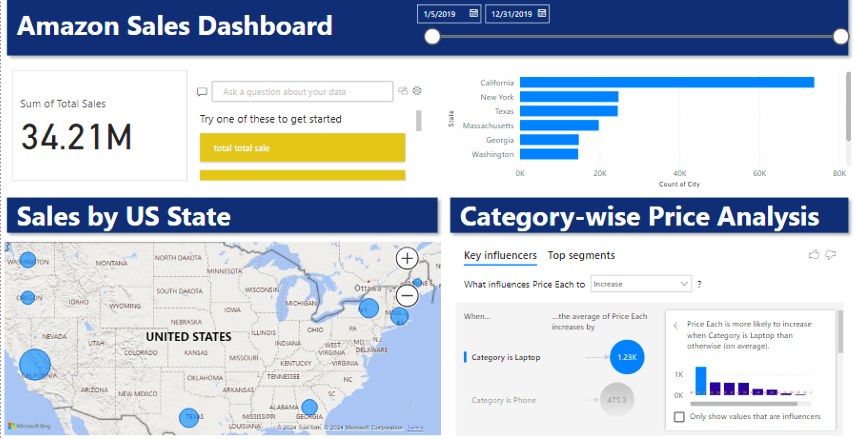

The dashboard page shown, as its layout file describes it:
{"tool":"powerbi","page":{"name":"Page 1","canvas":[1280,720],"ordinal":0},"visuals":[{"type":"shape","box":[0,40,1280,114.3],"z":0},{"type":"shape","box":[0,348.6,664.3,71.4],"z":1000},{"type":"shape","box":[664.3,348.6,615.7,71.4],"z":2000},{"type":"qnaVisual","box":[285.7,158.6,354.3,182.9],"z":3000},{"type":"keyDriversVisual","fields":{"Target":["Table6.Price Each"],"ExplainBy":["Table6.Category"]},"box":[677.1,420,591.4,300],"z":4000},{"type":"actionButton","box":[0,0,100,40],"z":5000},{"type":"map","fields":{"Category":["Table6.State"],"Size":["Table6.Total Sales"]},"box":[1.4,420,662.9,300],"z":6000},{"type":"cardVisual","fields":{"Data":["Table6.Total Sales"]},"box":[11.4,161.4,274.3,177.1],"z":7000},{"type":"barChart","fields":{"Category":["Table6.State"],"Y":["Table6.City"]},"box":[664.3,155.7,615.7,192.9],"z":8000},{"type":"slicer","fields":{"Values":["Table6.Order Date"]},"box":[611.4,58.6,668.6,75.7],"z":9000}]}

Visuals, with their boxes on the page's 1280x720 design canvas (x1, y1, x2, y2). These are canvas units, not pixel positions in the 854x439 screenshot, which may show the page scaled, cropped or inside an application window:
shape: (left=0, top=40, right=1280, bottom=154)
shape: (left=0, top=349, right=664, bottom=420)
shape: (left=664, top=349, right=1280, bottom=420)
qnaVisual: (left=286, top=159, right=640, bottom=342)
keyDriversVisual - Table6.Price Each x Table6.Category: (left=677, top=420, right=1268, bottom=720)
actionButton: (left=0, top=0, right=100, bottom=40)
map - Table6.State x Table6.Total Sales: (left=1, top=420, right=664, bottom=720)
cardVisual - Table6.Total Sales: (left=11, top=161, right=286, bottom=338)
barChart - Table6.State x Table6.City: (left=664, top=156, right=1280, bottom=349)
slicer - Table6.Order Date: (left=611, top=59, right=1280, bottom=134)
